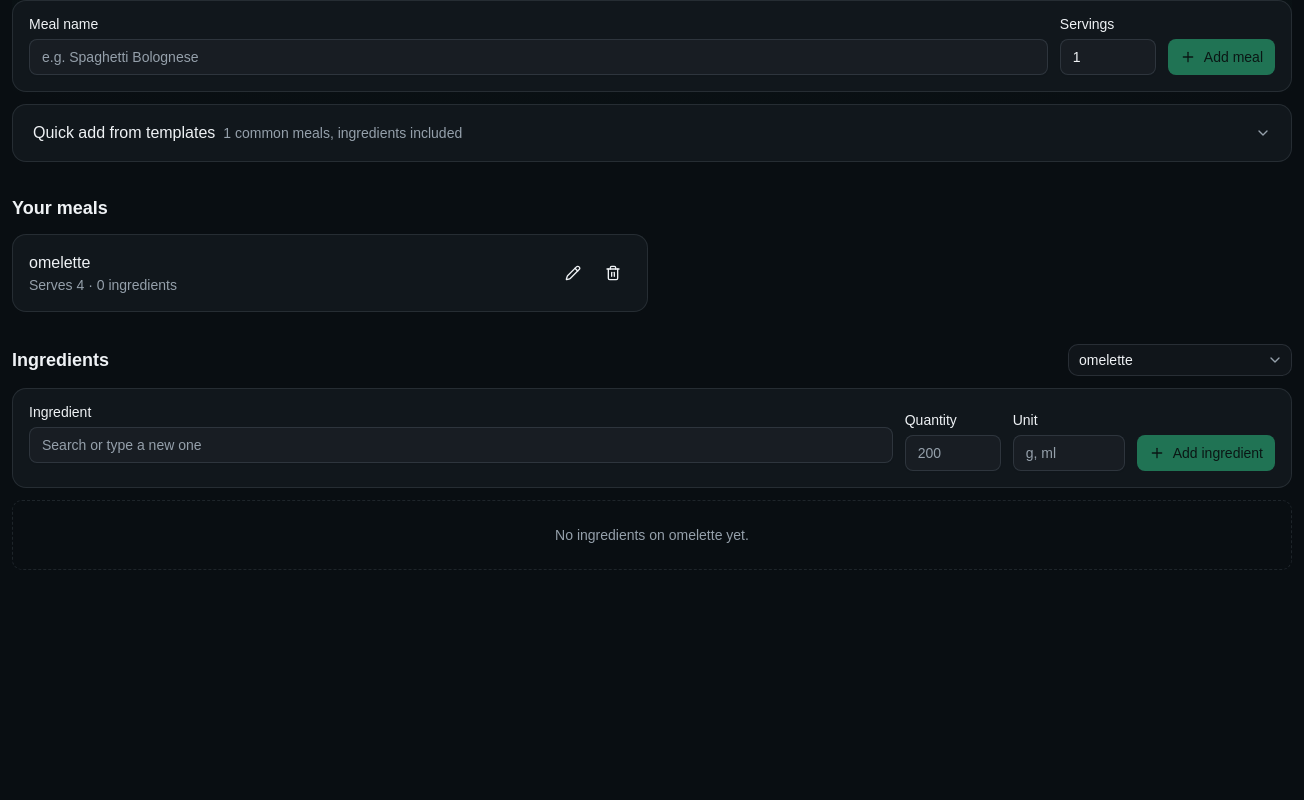
templates › disables a template that has already been added
Click the button "Quick add from templates1 common meals, ingredients included" at (124, 132), box [13,105,1291,161]
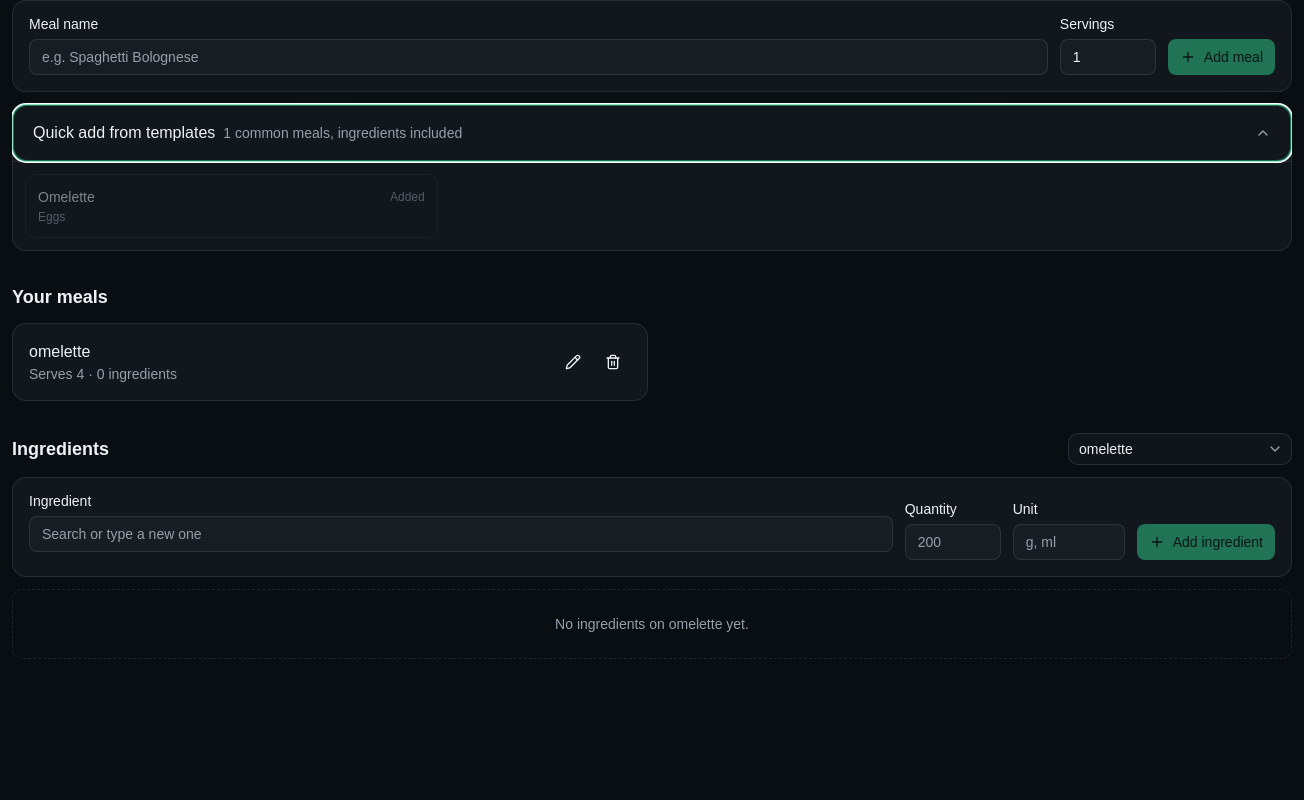
expect the button named "Omelette (added)" is disabled: met, box [25,174,438,238]
